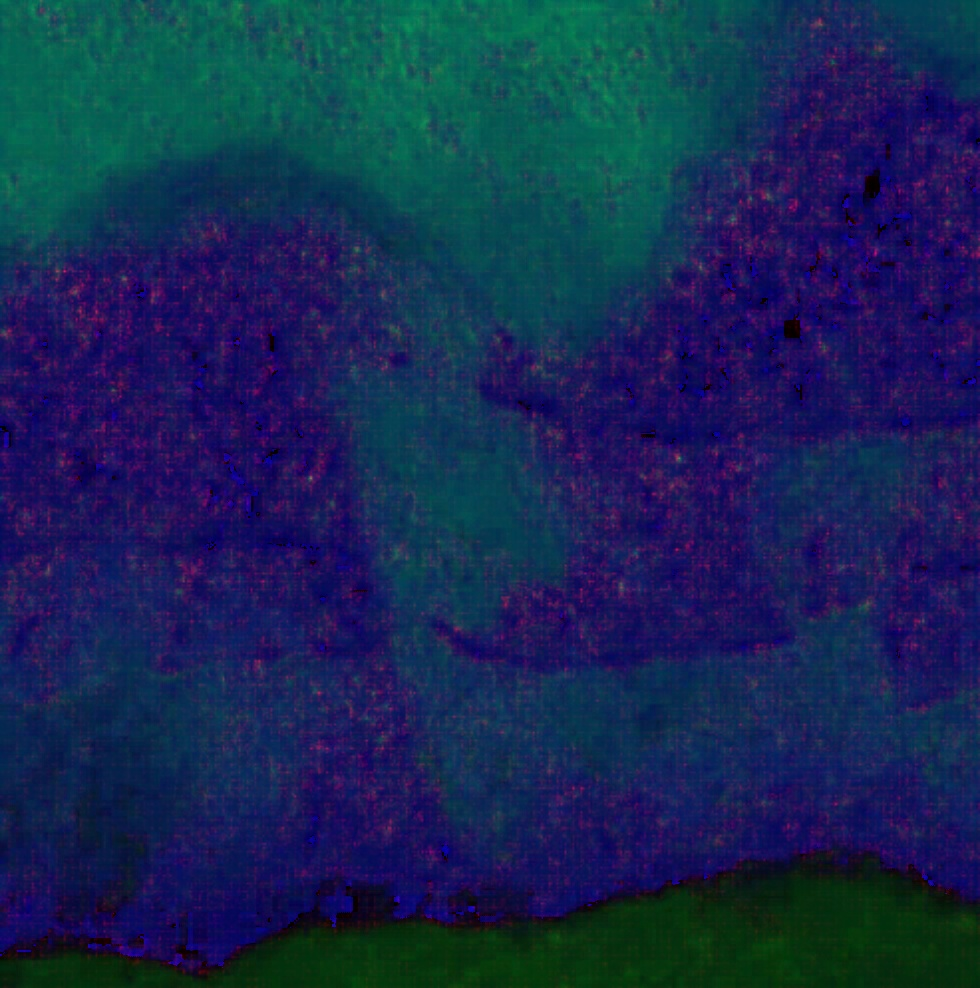rip_current: (288, 162, 647, 772)
